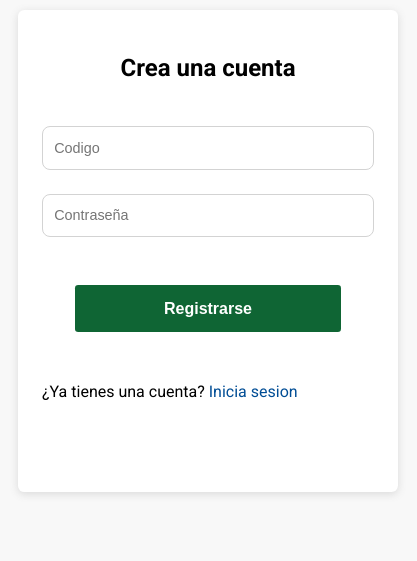
Test: Register Page Tests › Should display Error message for too long password length
Type "123456789012345678" into the password field with placeholder "Contraseña".
click(208, 215); type("123456789012345678")  # box [42,194,374,237]
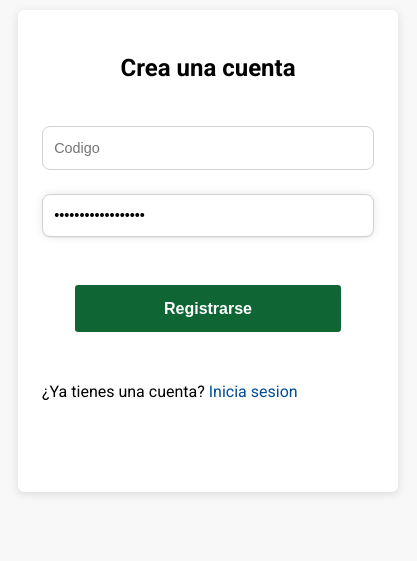
Click the button "Registrarse".
click(208, 309)  # box [75,285,341,332]
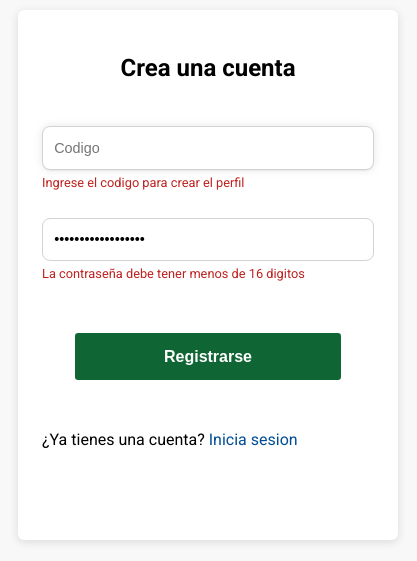
Expected: the text "La contraseña debe tener menos de 16 digitos" is shown, [42,266,305,281]
